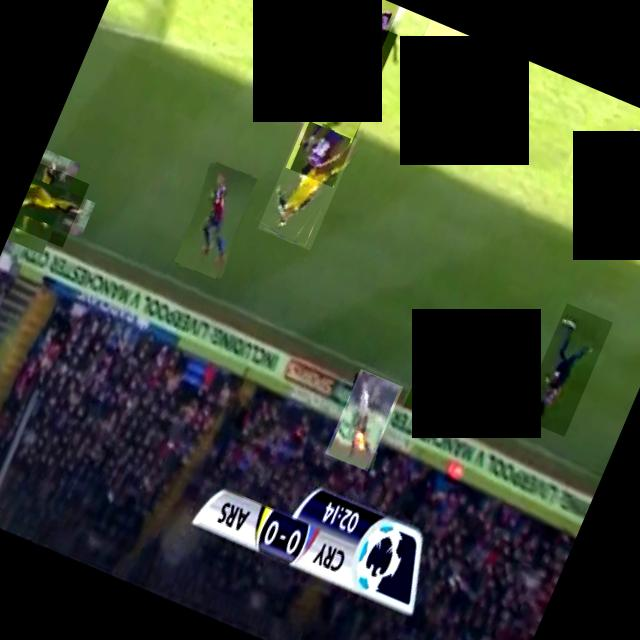ball: (273, 80, 316, 124)
referee: (324, 368, 402, 472), (414, 19, 476, 78)
soccer-player: (284, 14, 398, 187), (257, 117, 357, 250), (518, 303, 612, 437), (170, 160, 260, 280), (562, 100, 640, 231), (403, 313, 484, 424), (12, 162, 89, 248), (339, 0, 399, 46)
